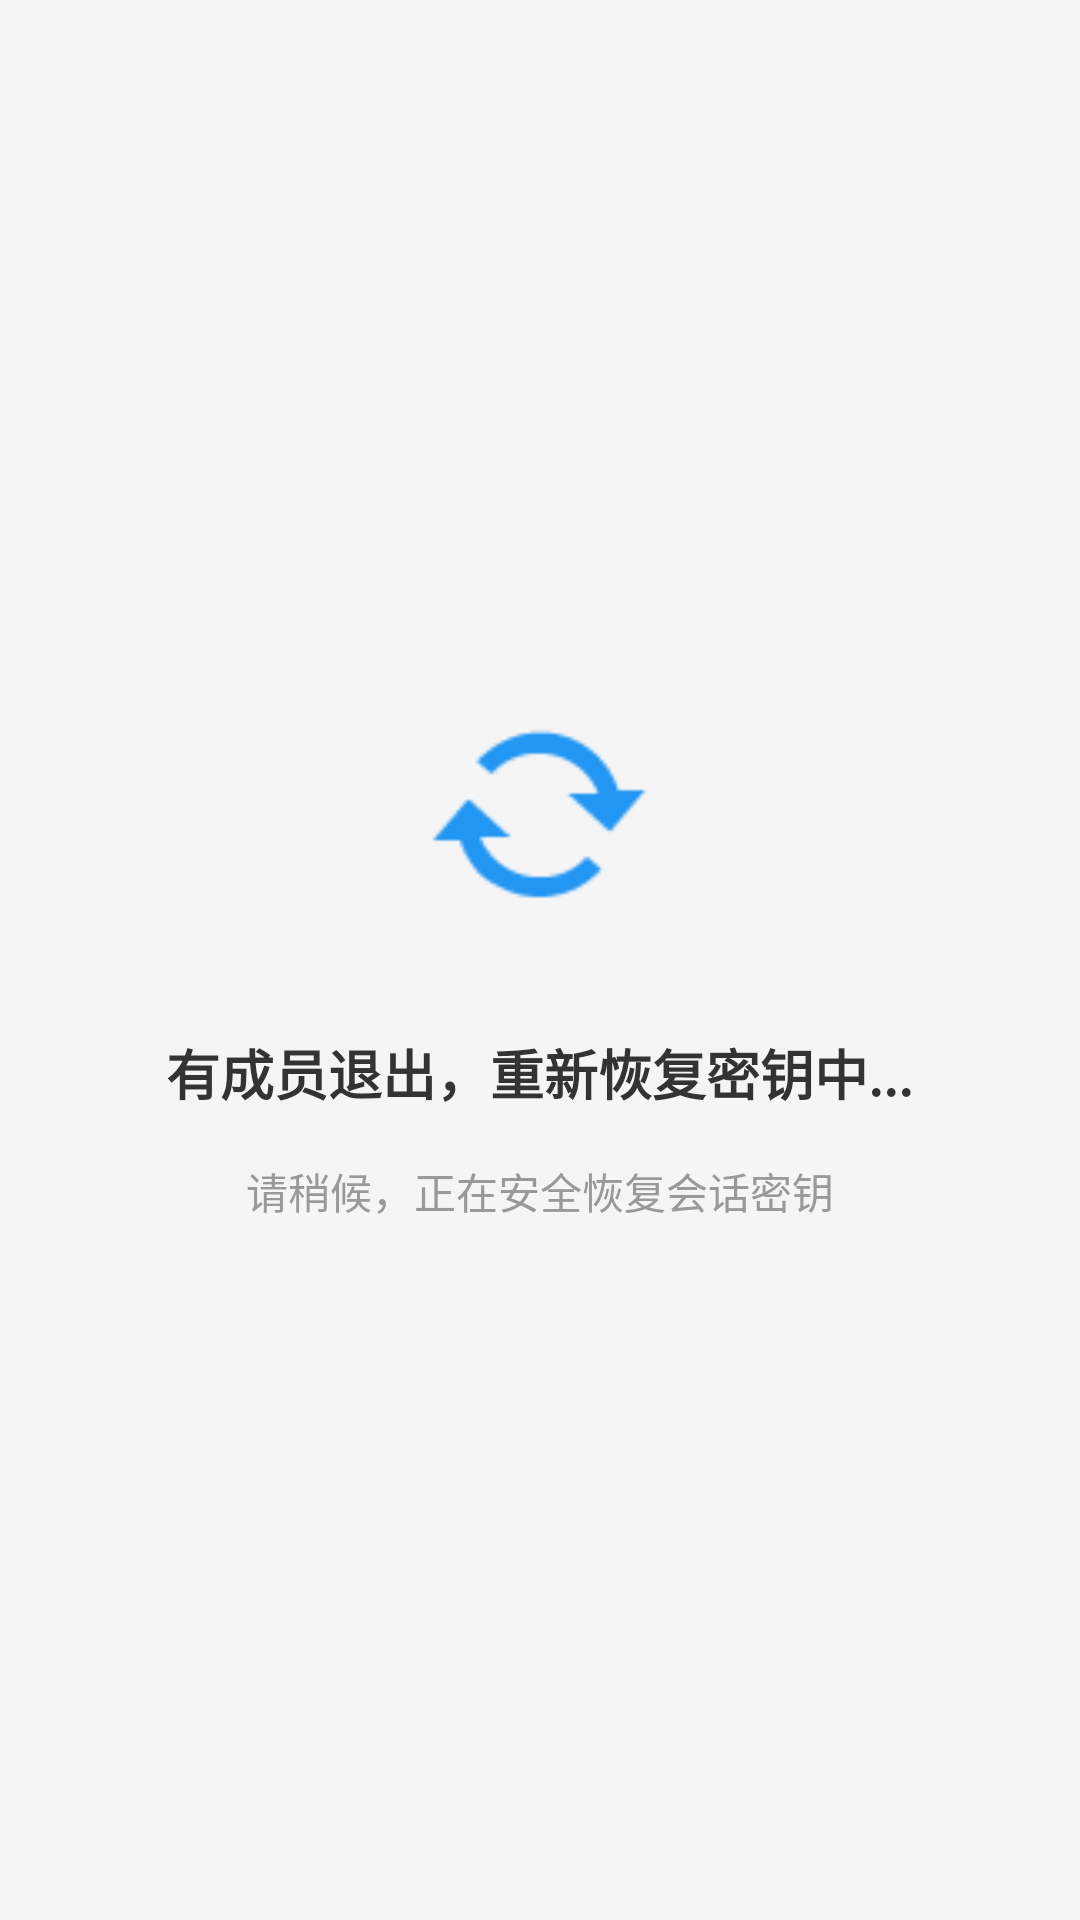

Where icons sit on this 1080w x 1920h app screen, as (x1, y1, x2, y2):
密钥恢复中: (432, 730, 646, 898)
